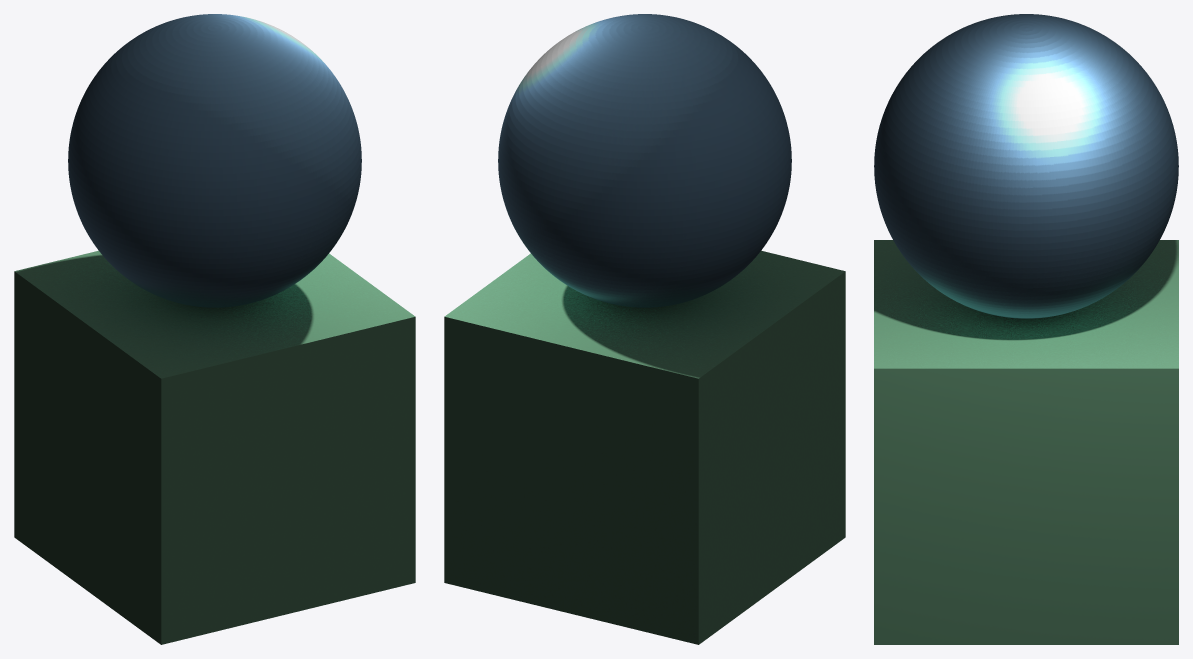
Rendered from test-texture.gltf.
3 views of the same model, side by side, from view 1: azimuth 30°, elevation 25°; view 2: azimuth 150°, elevation 25°; view 3: azimuth 270°, elevation 25° (orthographic). The views are drawn at different scales.
Parts seen in each view (by area): view 1: Cube, Sphere; view 2: Cube, Sphere; view 3: Cube, Sphere.
Part boxes in pixels (<box>): Cube: <box>14,250,415,644</box>; Sphere: <box>68,14,361,307</box>; Cube: <box>444,250,845,644</box>; Sphere: <box>498,14,791,307</box>; Cube: <box>874,240,1178,644</box>; Sphere: <box>874,14,1178,318</box>.
Bounding box in the file's own units: 2 × 4 × 2.
2 materials, 2 textured.
